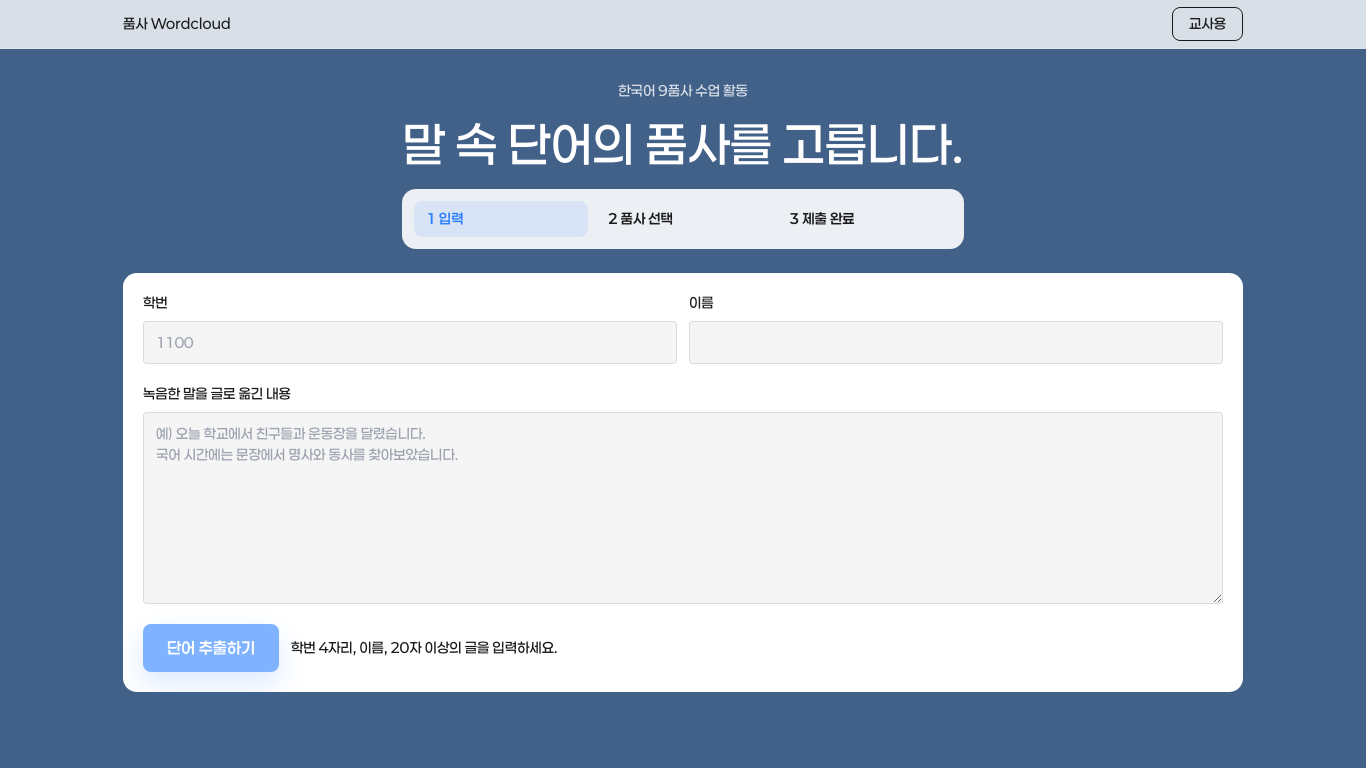
Scenario: StudentPage › keeps analysis disabled until required fields are valid and shows the classroom steps
The image size is (1366, 768).
Expected: the list item "1 입력" is shown, [414,201,588,237]
Expected: the list item "2 품사 선택" is shown, [608,210,673,227]
Step 1. Type "1101" into the field labelled "학번" → x=410, y=342, box [143,321,677,364]
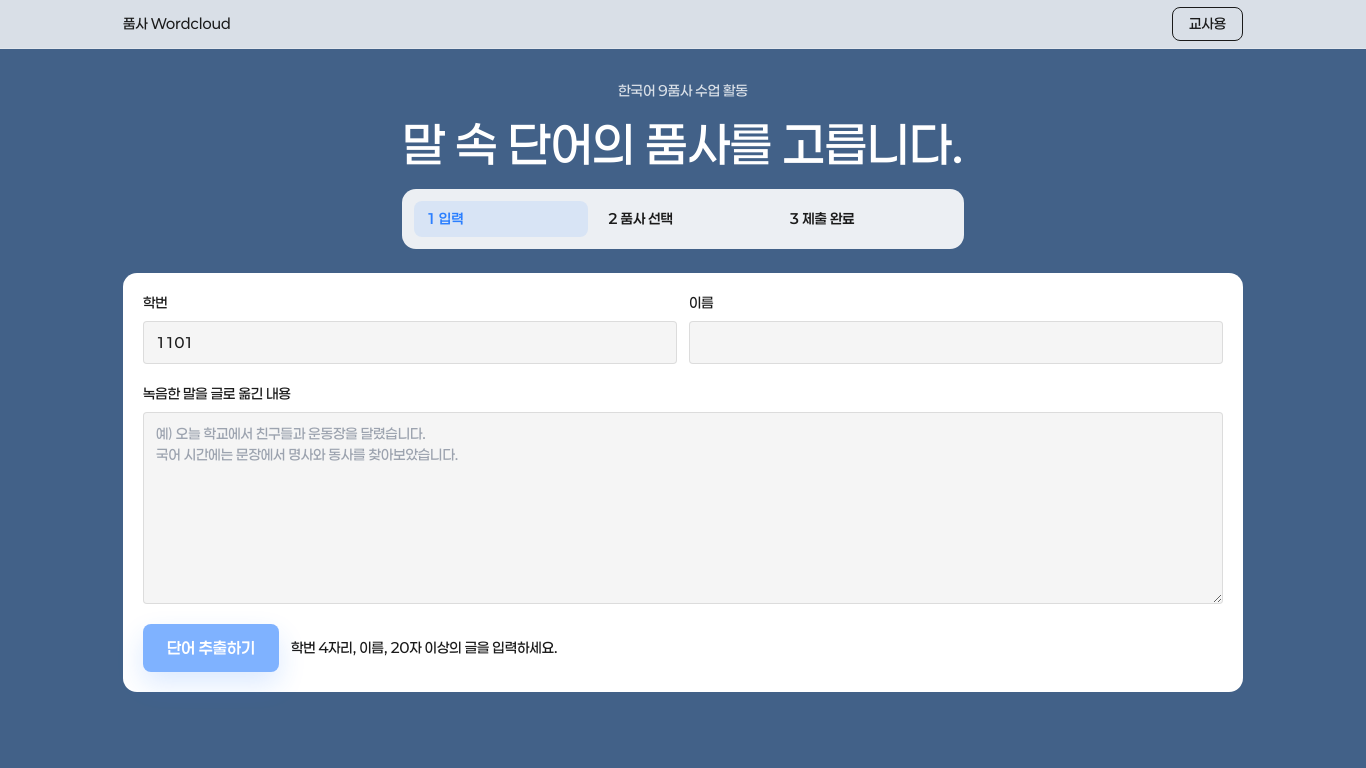
Step 2. Type "김학생" into the field labelled "이름" → x=956, y=342, box [689,321,1223,364]
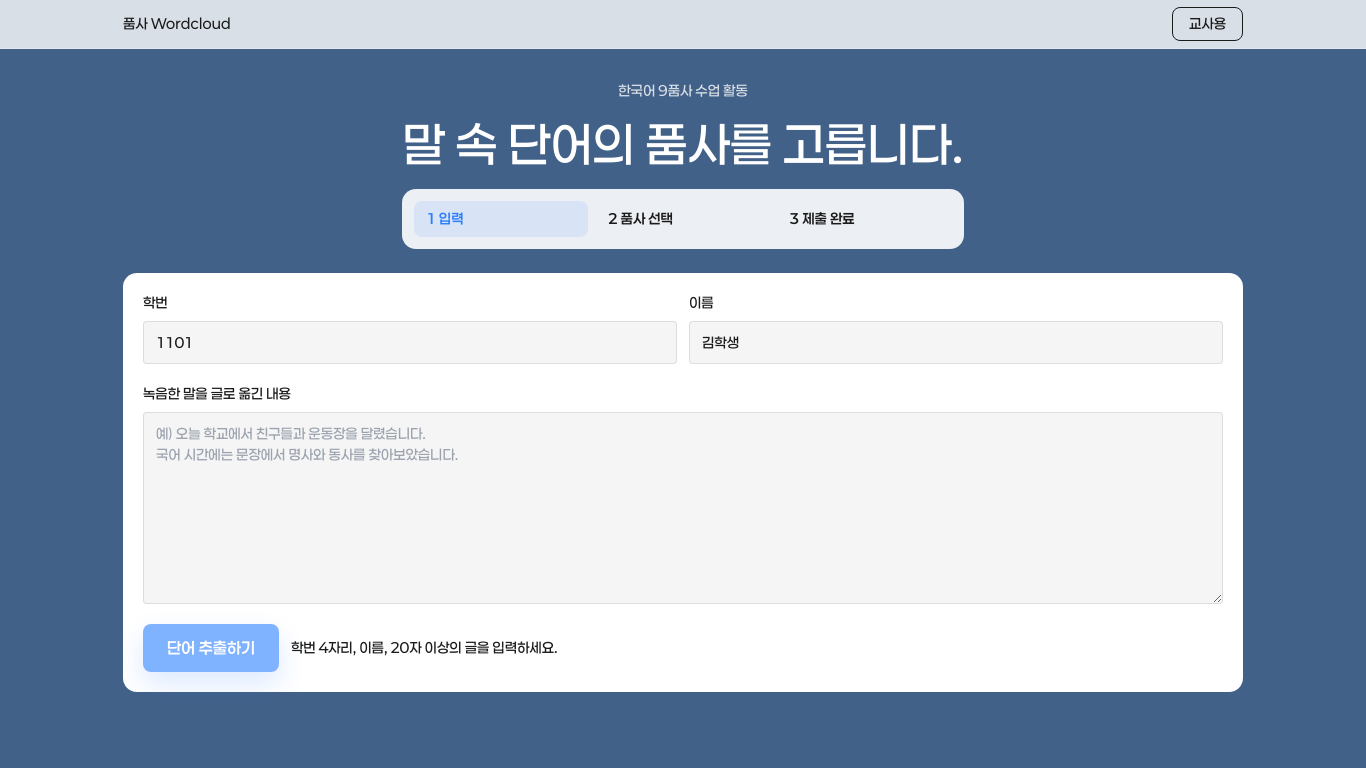
Step 3. Type "짧은 글" into the text box labelled "녹음한 말을 글로 옮긴 내용" → x=683, y=508, box [143,412,1223,604]
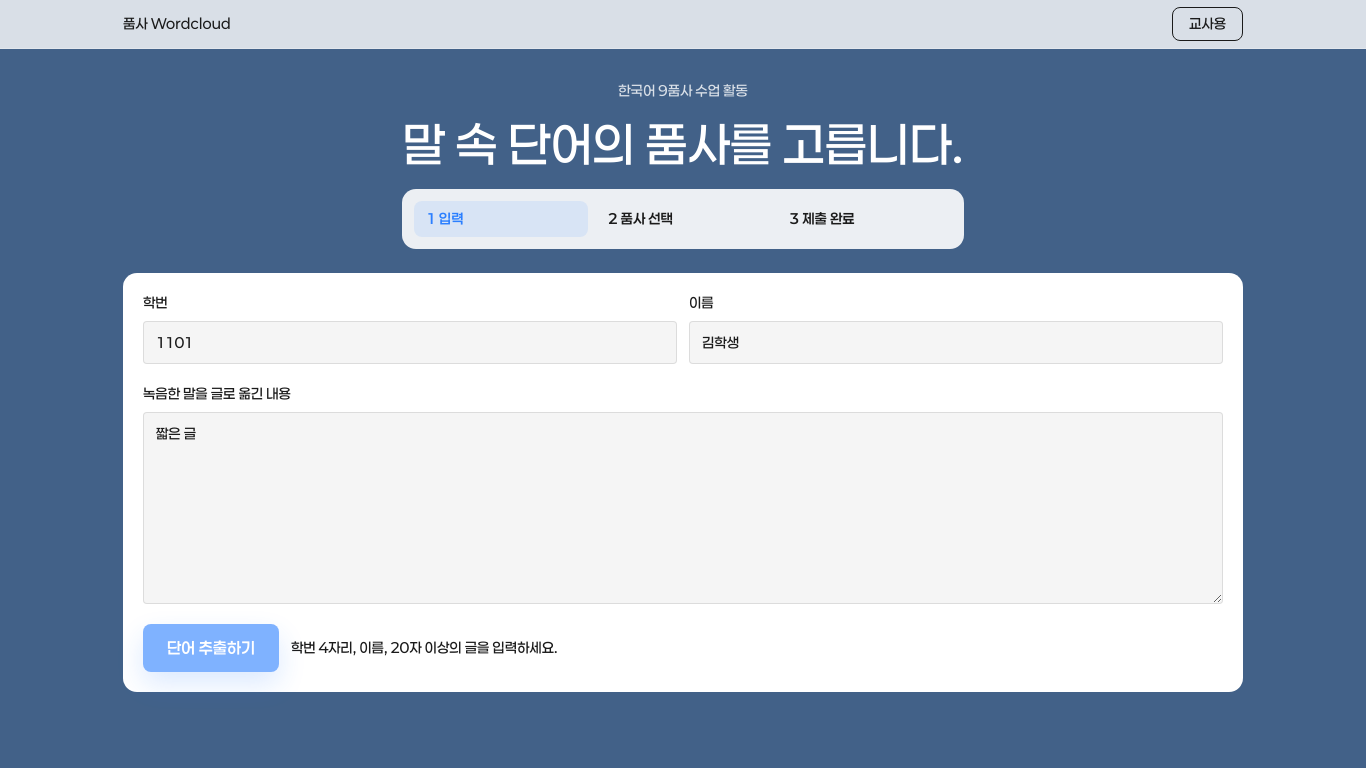
Expected: the button "단어 추출하기" is disabled, [143,624,279,672]
Step 4. Replace the text in the text box labelled "녹음한 말을 글로 옮긴 내용" with "오늘 학교에서 친구들과 운동장을 달리고 국어 시간에는 품사를 공부했습니다." → x=683, y=508, box [143,412,1223,604]
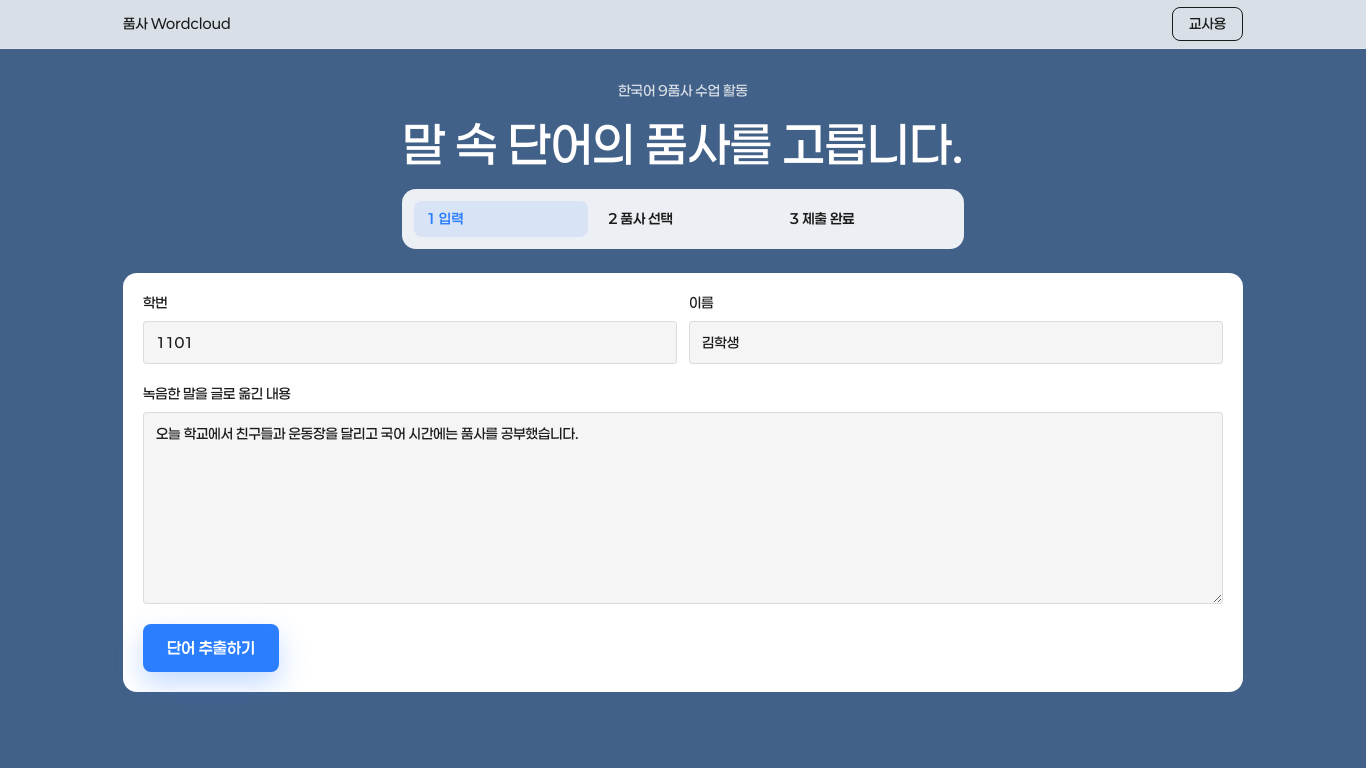
Result: the button "단어 추출하기" is enabled at [143,624,279,672]
